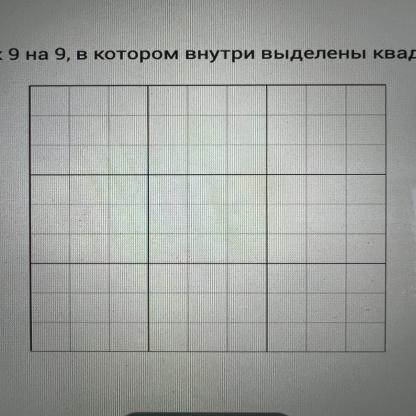sudoku: (25, 81, 392, 356)
